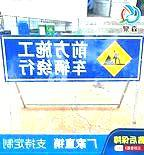sign: (2, 36, 140, 81)
